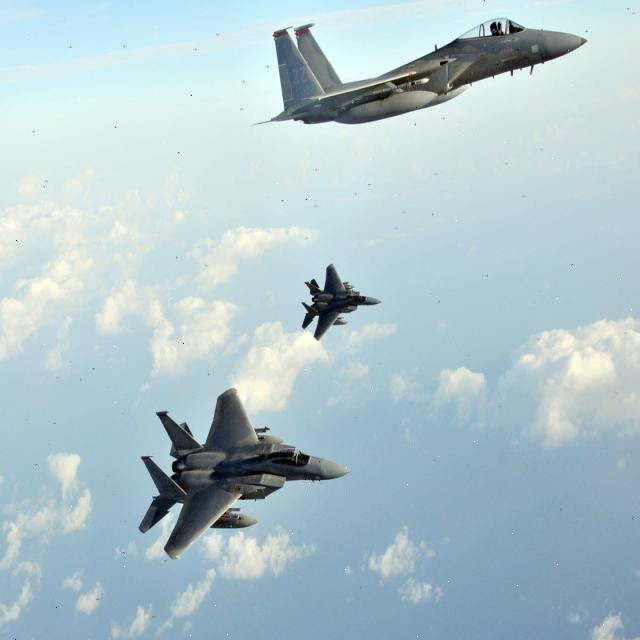F15: (253, 1, 631, 151), (132, 375, 364, 587), (281, 252, 393, 364)
